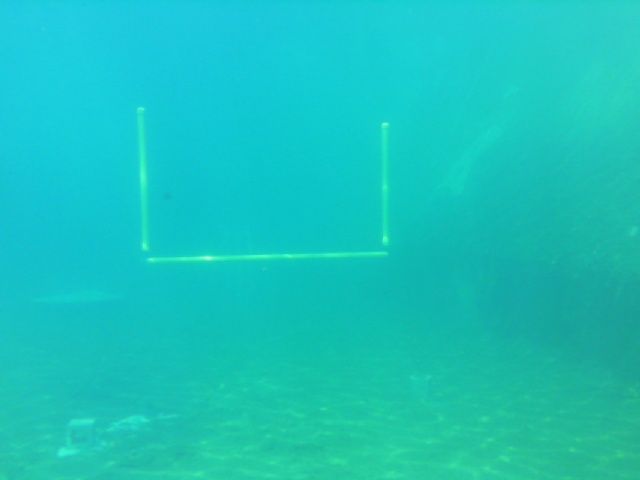channel: (133, 104, 397, 270)
